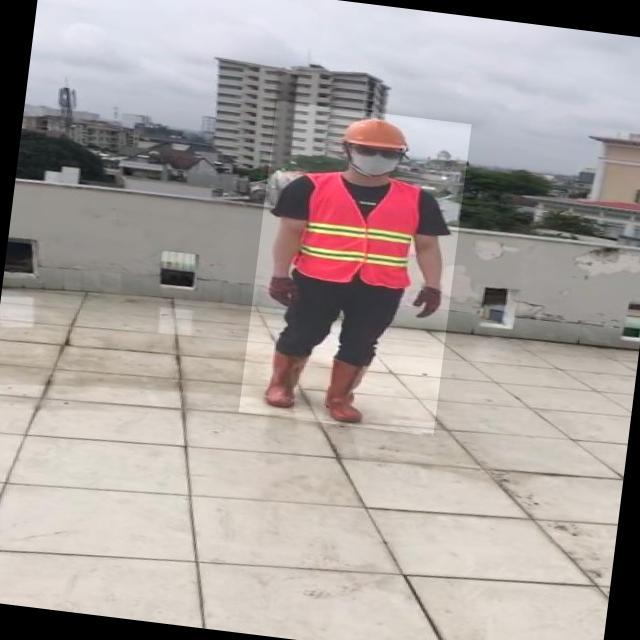Gloves: (413, 286, 443, 325), (266, 273, 299, 307)
Helmet: (339, 113, 416, 154)
Human: (238, 100, 471, 436)
Safety Boot: (323, 355, 370, 424), (262, 345, 310, 410)
Safety Vest: (292, 168, 425, 291)
